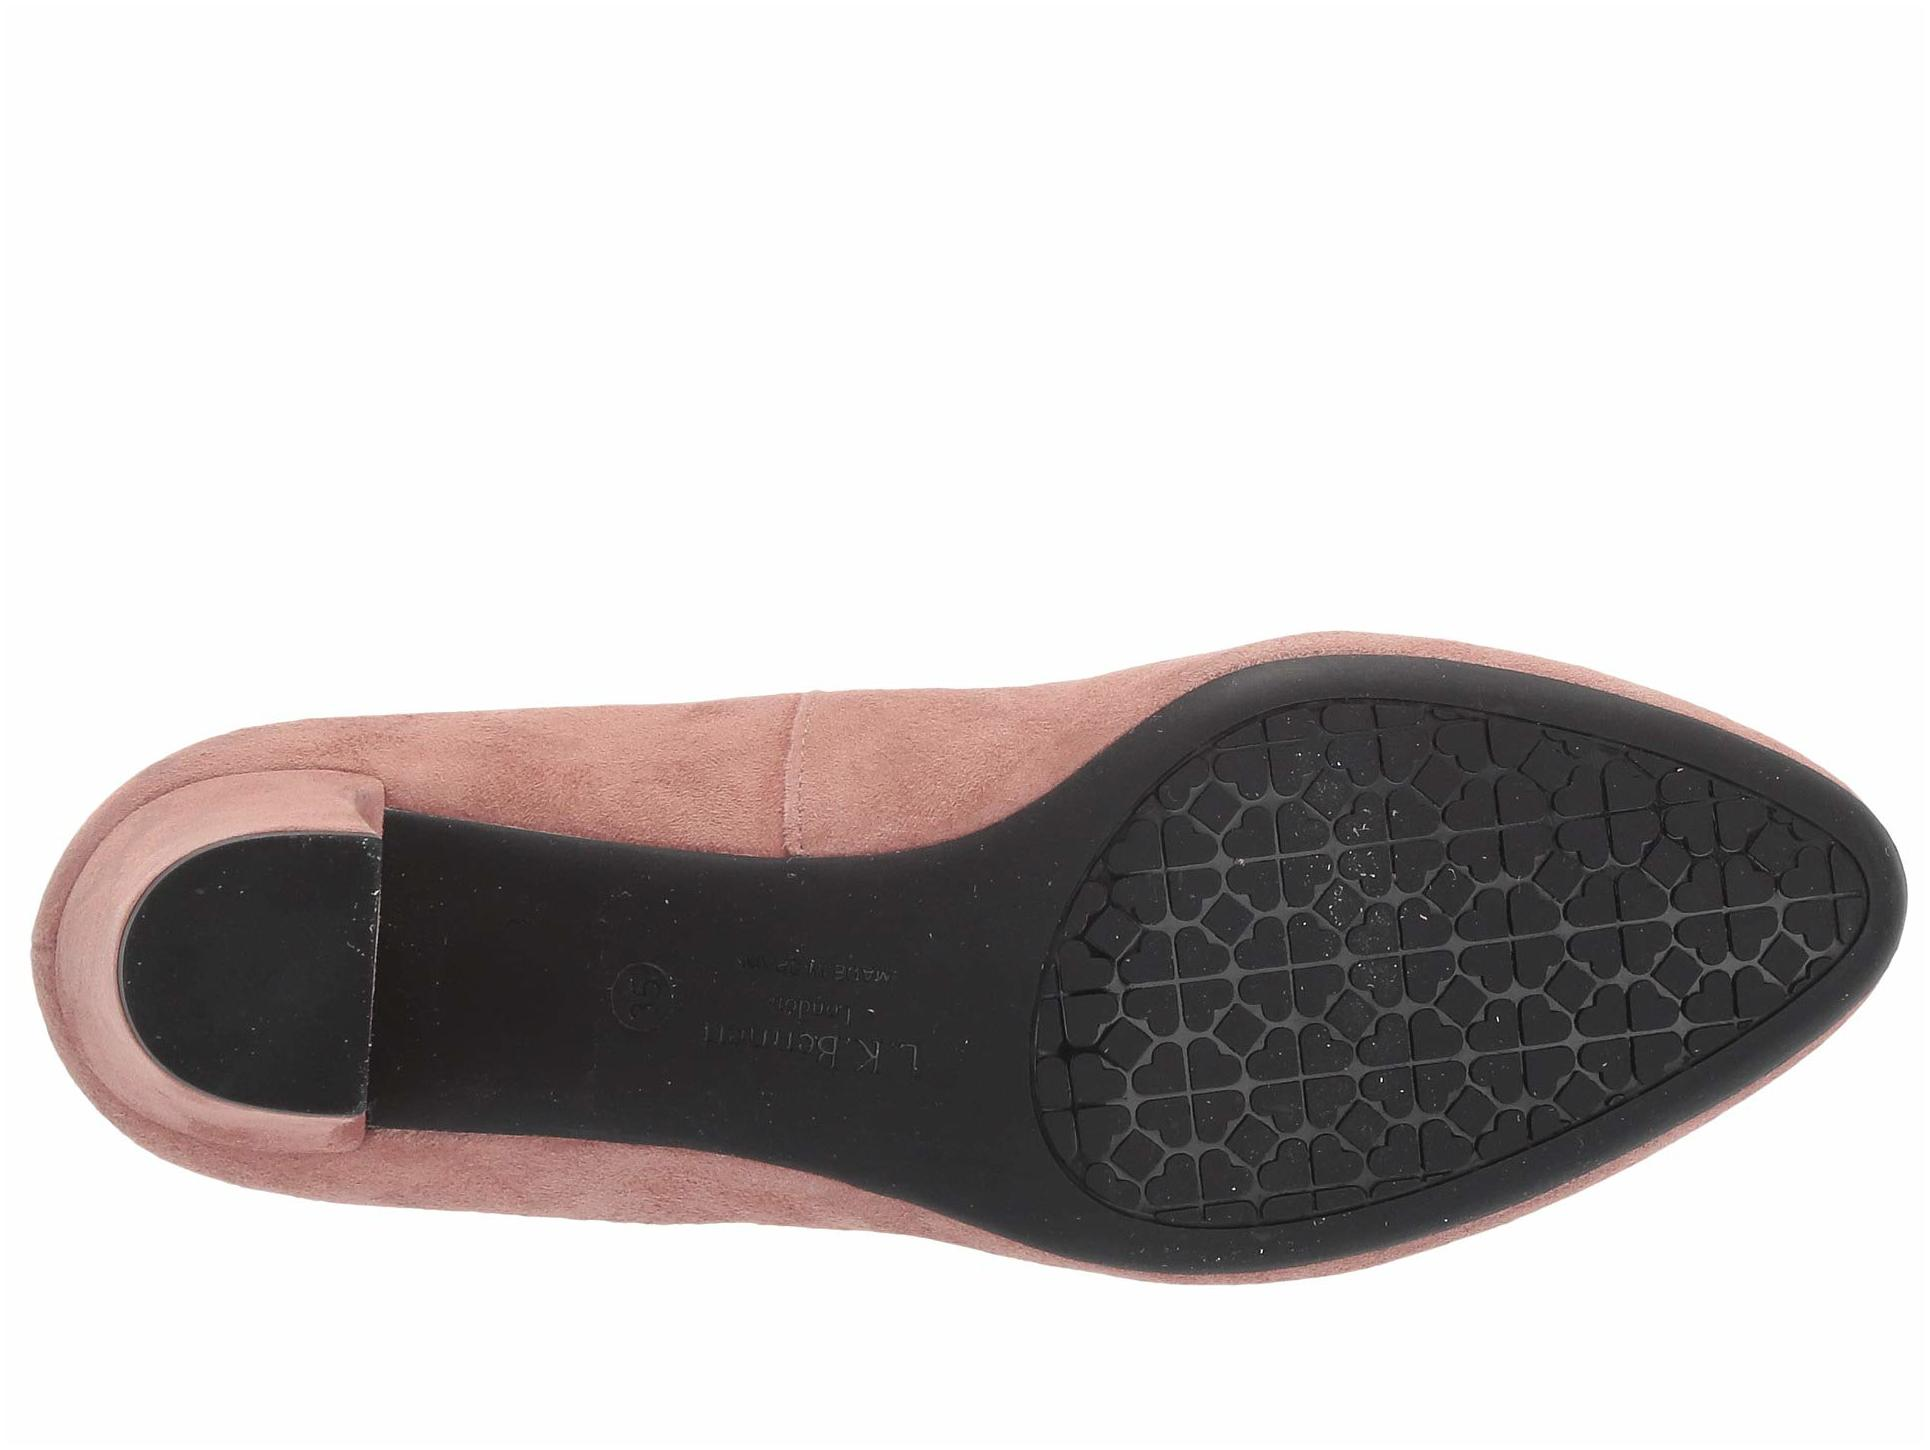chevron: (1237, 752, 1639, 1158)
quad: (1237, 752, 1639, 1158), (1301, 864, 1368, 958), (1523, 838, 1592, 918), (1318, 985, 1389, 1062), (1625, 822, 1702, 891), (1078, 1014, 1161, 1075), (1194, 886, 1260, 963), (1206, 992, 1272, 1068), (1435, 1075, 1500, 1145), (1401, 746, 1473, 810), (1295, 760, 1362, 827), (1182, 771, 1251, 835), (1412, 862, 1484, 918), (1101, 1123, 1165, 1183), (1753, 928, 1813, 992), (1529, 958, 1596, 1013), (1216, 1119, 1287, 1167), (1435, 972, 1487, 1036)
star: (1237, 752, 1639, 1158)
